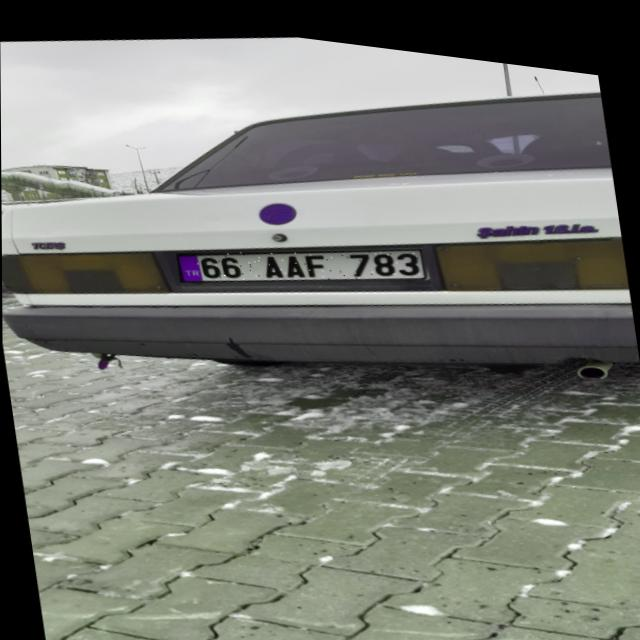license_plate: (175, 214, 426, 302)
